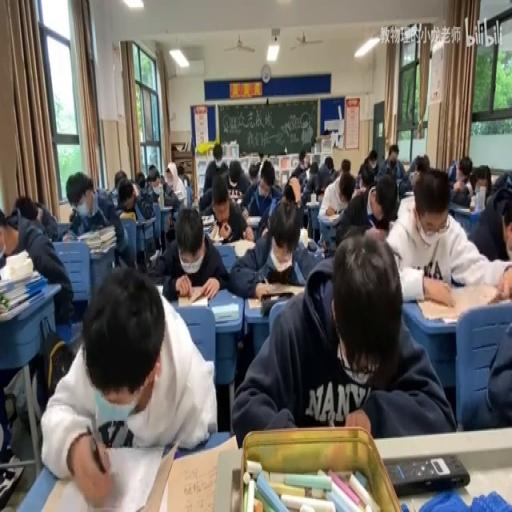calculator: (162, 437, 236, 509), (415, 279, 504, 321), (246, 283, 304, 304), (212, 300, 238, 322), (177, 290, 208, 307), (232, 238, 254, 256), (322, 209, 342, 222), (201, 216, 214, 235), (298, 226, 309, 248), (450, 202, 471, 213), (136, 215, 154, 226), (120, 209, 136, 221), (248, 297, 262, 309), (246, 215, 260, 226), (154, 284, 165, 298), (149, 248, 159, 263), (306, 198, 320, 206), (61, 232, 74, 240), (159, 204, 173, 210), (404, 191, 414, 196)
paper: (234, 230, 450, 444), (41, 263, 216, 504), (385, 166, 506, 299), (2, 198, 74, 332), (154, 204, 228, 302), (67, 169, 131, 276), (331, 171, 379, 246), (242, 158, 282, 232), (202, 142, 234, 195), (148, 163, 182, 212), (378, 144, 408, 194), (306, 159, 335, 205), (450, 156, 476, 206), (288, 148, 311, 183), (280, 176, 302, 212), (13, 194, 37, 220), (0, 222, 18, 256), (356, 160, 374, 190), (491, 171, 512, 196), (118, 183, 136, 212), (247, 160, 259, 184), (114, 168, 127, 189), (268, 196, 279, 219), (416, 154, 430, 170), (229, 163, 239, 185), (134, 171, 146, 186), (323, 155, 334, 171), (368, 149, 378, 165), (212, 145, 222, 161), (308, 162, 318, 176), (341, 158, 350, 173), (110, 189, 118, 205), (220, 161, 229, 175), (177, 162, 185, 176), (159, 175, 165, 186), (182, 176, 188, 186)
person: (386, 452, 470, 494), (0, 462, 24, 511)
